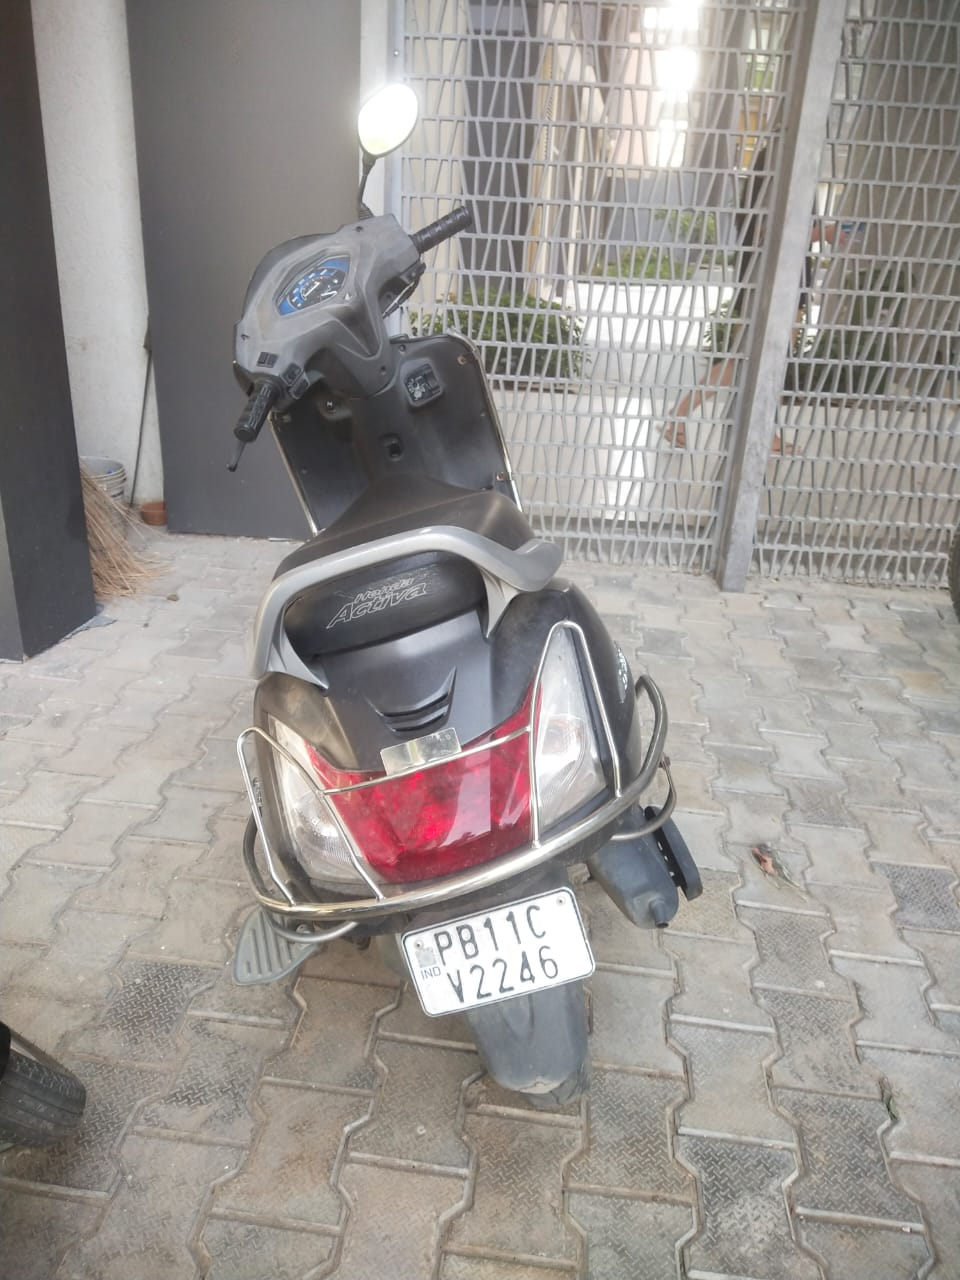license plate: (401, 888, 594, 1016)
